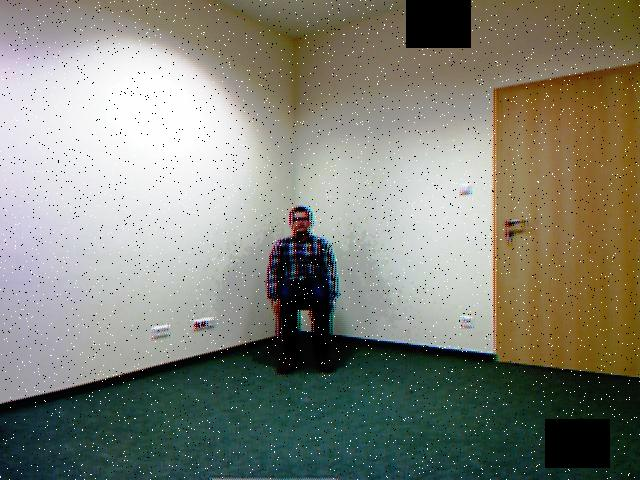sitting: (252, 193, 350, 393)
